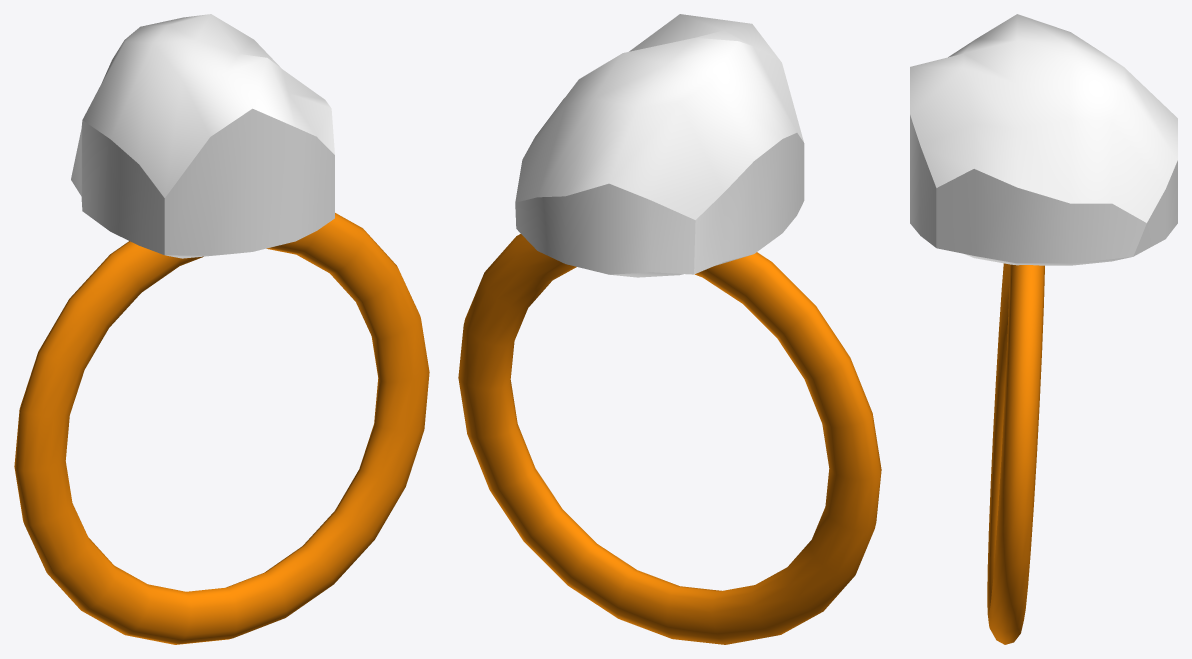
File: carbono.FBX
3 renders of one model, left to right at view 1: azimuth 30°, elevation 25°; view 2: azimuth 150°, elevation 25°; view 3: azimuth 270°, elevation 25°, orthographic. The views are drawn at different scales.
Parts seen in each view (by area): view 1: Torus001; view 2: Torus001; view 3: Torus001.
Part boxes in pixels (box(x1,y1,x2,y2)): Torus001: box(14, 14, 429, 644); Torus001: box(458, 14, 881, 644); Torus001: box(910, 14, 1177, 644).
Size of the model in its own units: 19.18 by 26.98 by 11.31.
